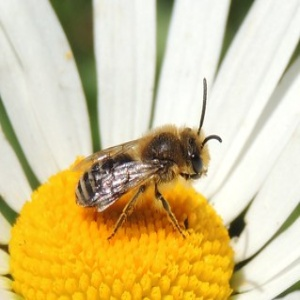bee: (69, 124, 225, 239)
